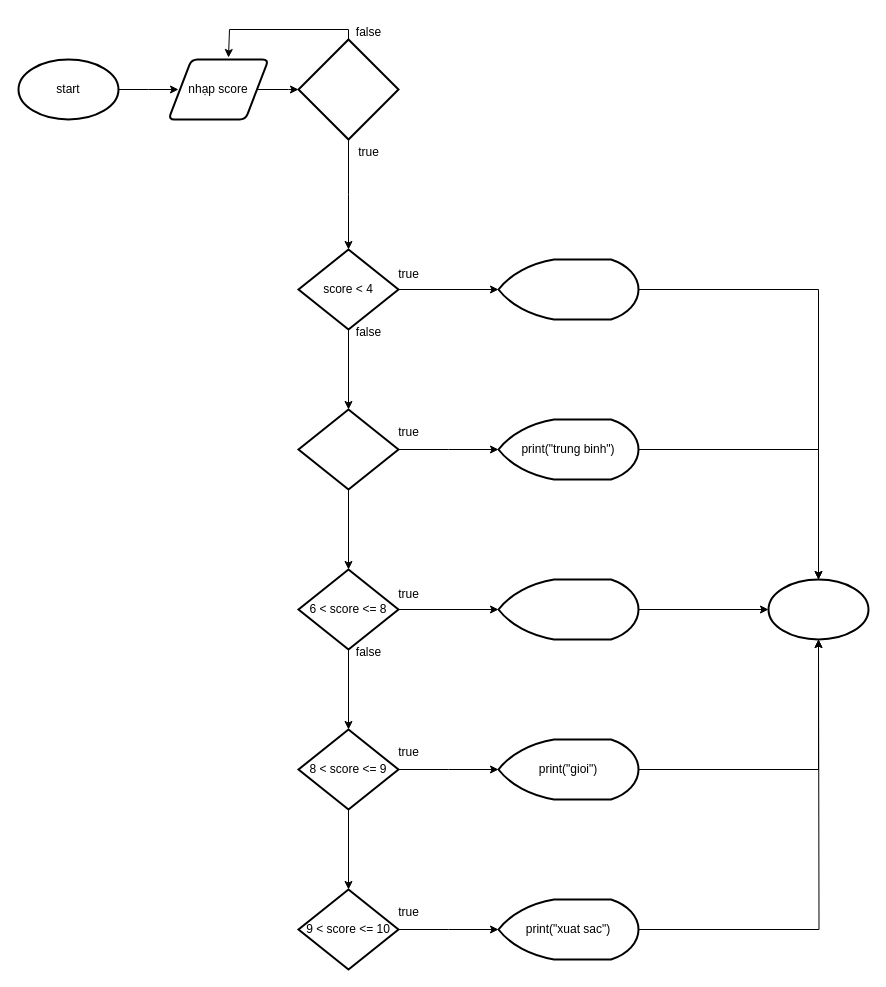
Image size: 886x987. Some labels were removed from this diagram. The box of each missing label's shape, as (x1, y1, x2, y2) in pixels:
4 <= score <= 6: (297, 408, 399, 490)
end: (767, 578, 869, 640)
print("kha"): (497, 578, 639, 640)
print("khong dat"): (497, 258, 639, 320)
score >= 0, <= 10: (297, 38, 399, 140)
